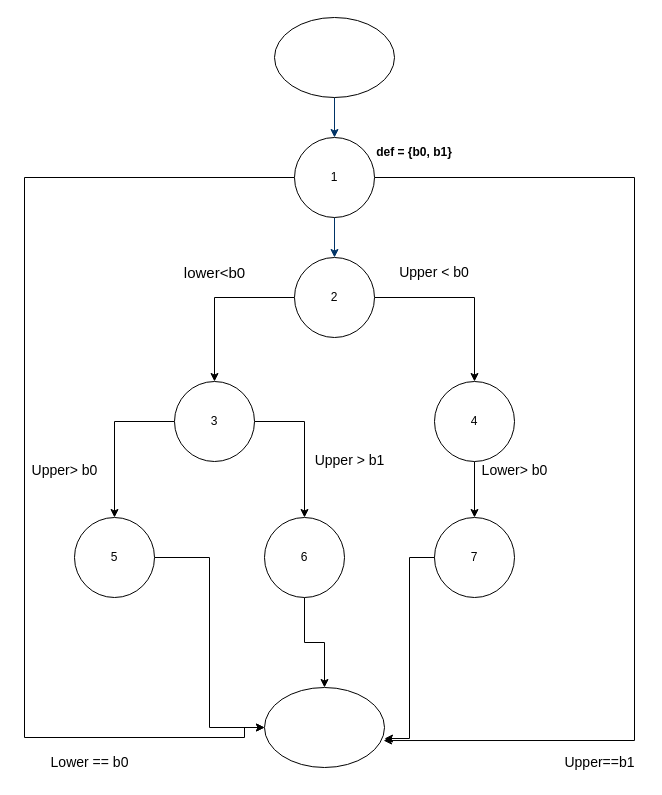
Image size: 662x795. Some labels were removed from this diagram. The shapes that lost their labels are listed below. From the top down, each one's box as (x1, y1, x2, y2) in pixels, then its label:
(274, 16, 394, 98): Start
(264, 686, 384, 768): End
